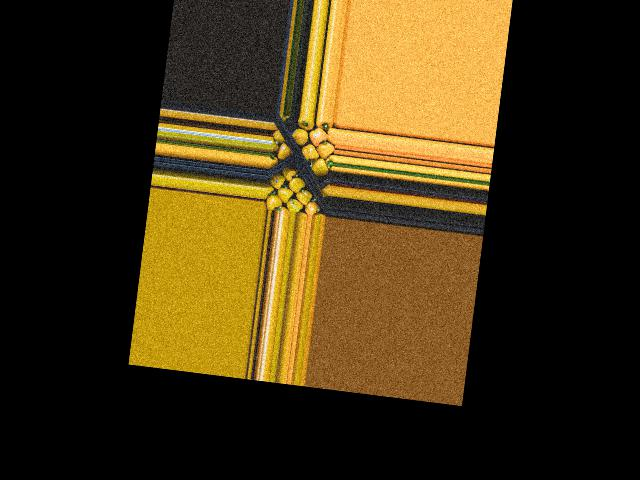bell_pepper: (262, 190, 281, 210)
